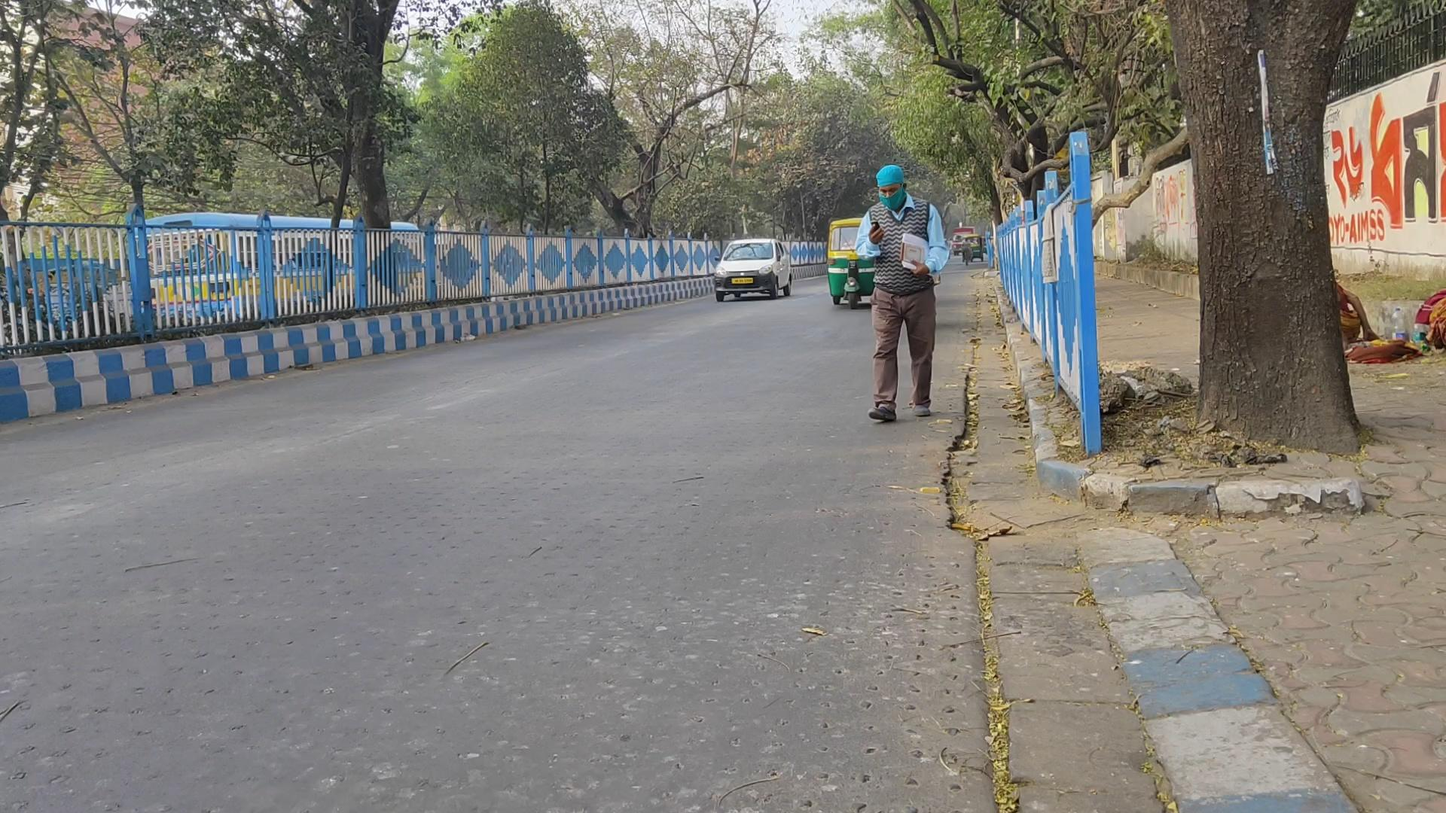Auto: (827, 218, 886, 308), (962, 233, 984, 262)
bike: (960, 236, 974, 266)
car: (713, 237, 795, 304)
